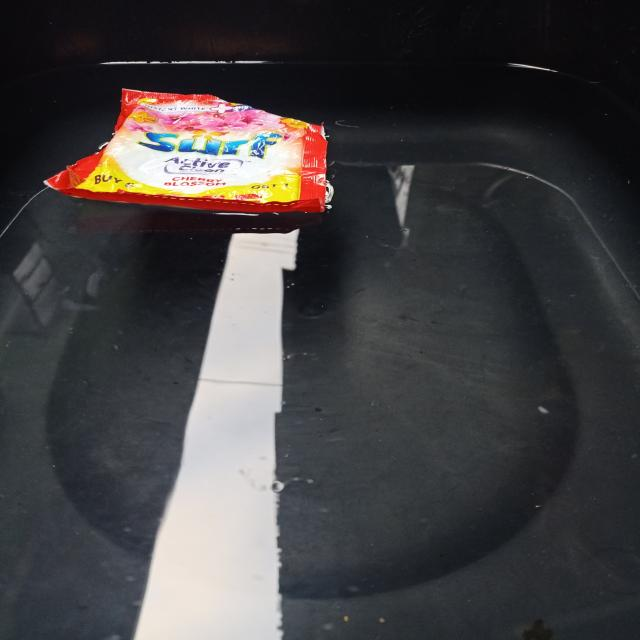Plastic Wrapper: (43, 82, 345, 220)
